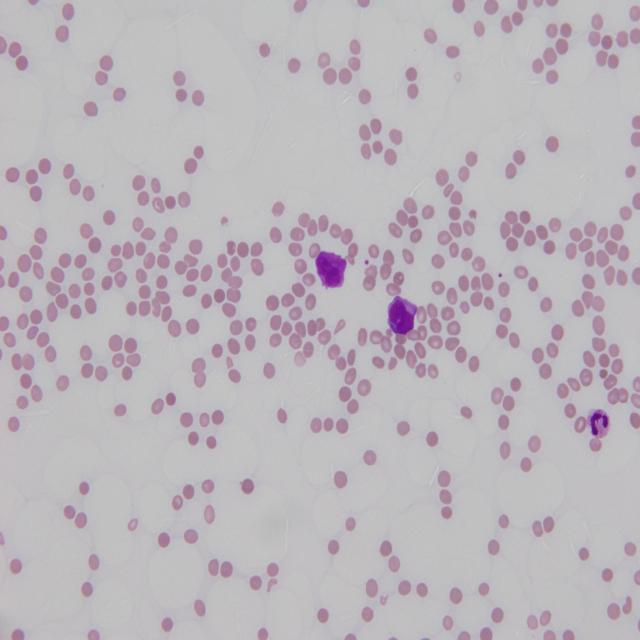cell: (388, 296, 418, 335), (315, 252, 346, 288), (588, 410, 610, 438)
